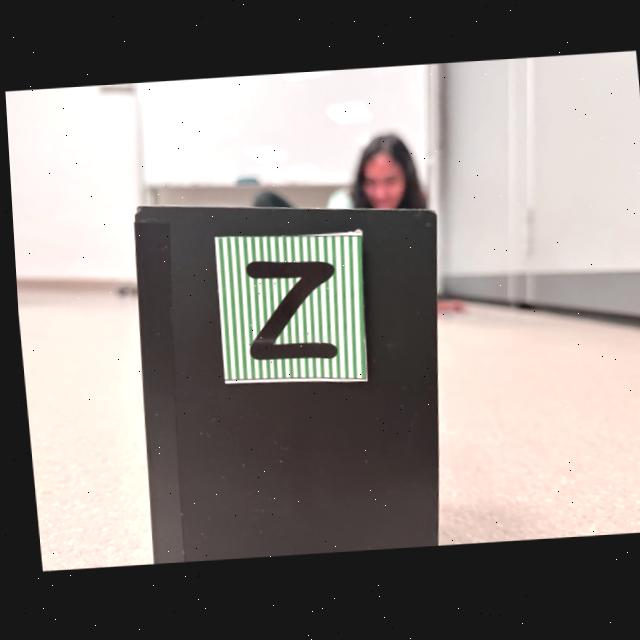Z: (241, 263, 333, 361)
